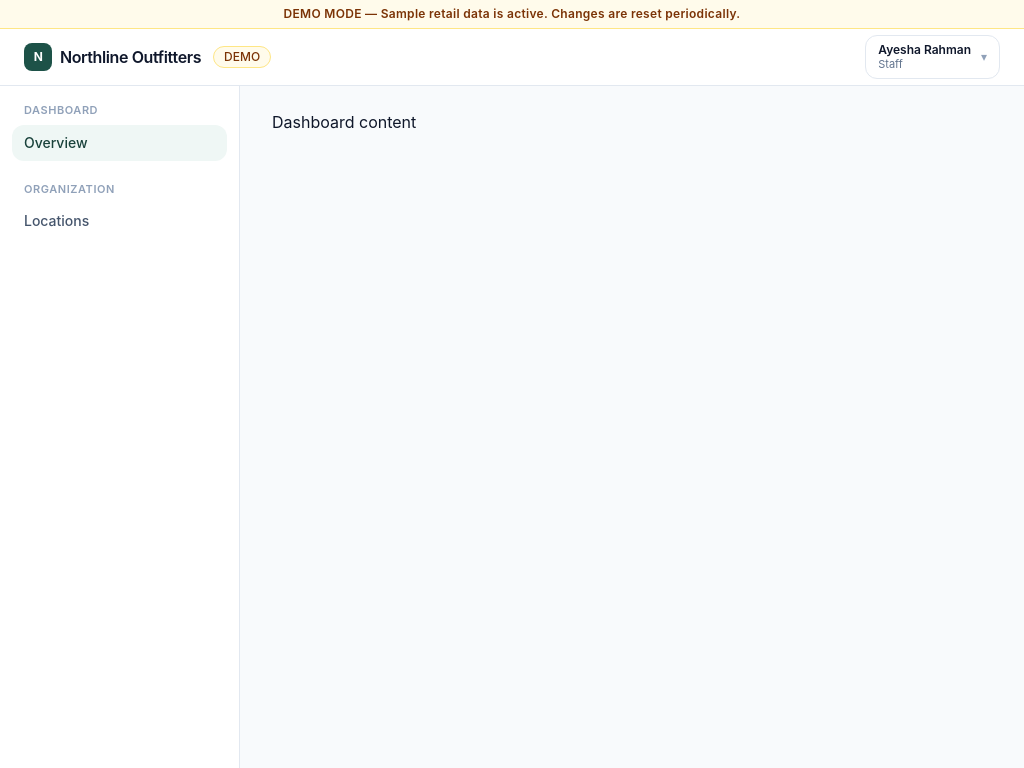
Test: AppShell › displays business name from /auth/status, demo banner when enabled, and permission-filtered nav
Check: the text "Northline Outfitters" is shown, box [60,45,201,69]
Check: the text "DEMO MODE" is shown, box [284,6,740,21]
// User menu opens with Change password and Sign out
Click the button "Ayesha Rahman Staff ▾" at [933, 57], box [865,35,1000,79]
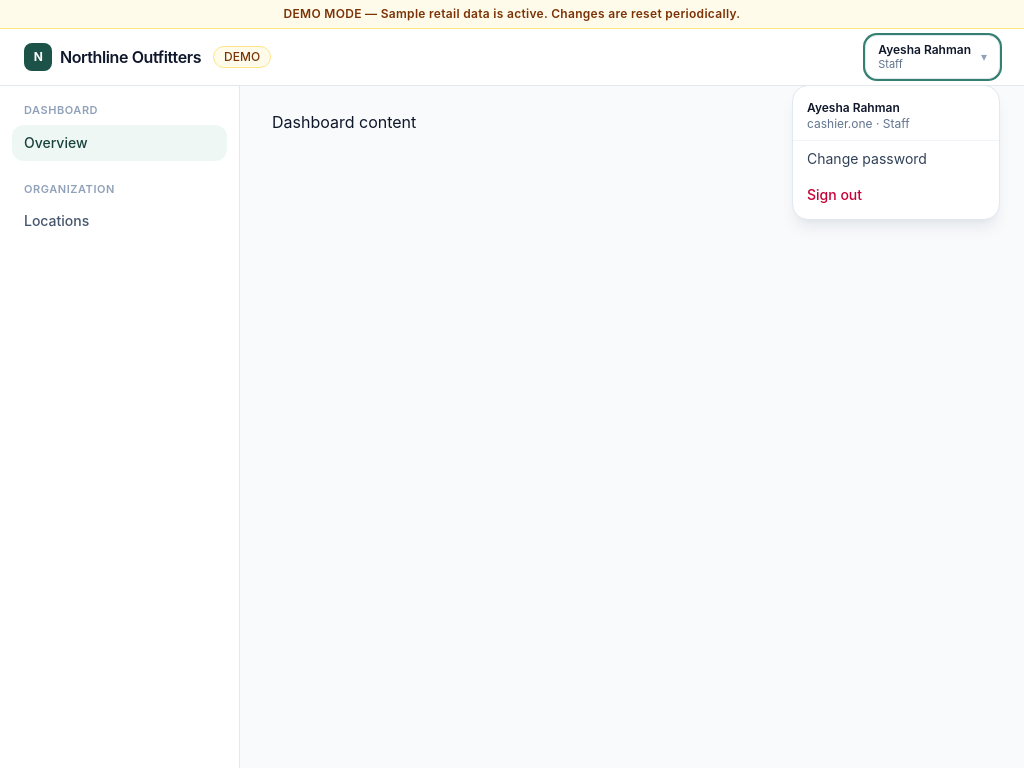
Check: the menu item "Change password" is shown, box [807,150,927,167]
Check: the menu item "Sign out" is shown, box [793,177,999,213]
